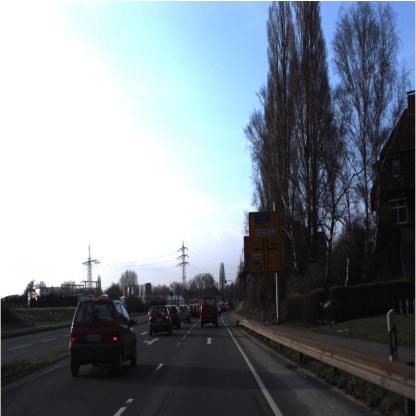other: (245, 272, 254, 286)
